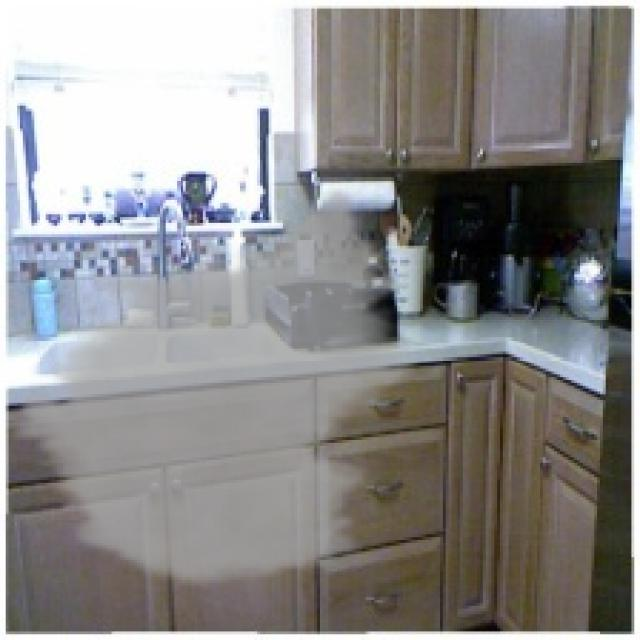smoke: (3, 186, 428, 591)
